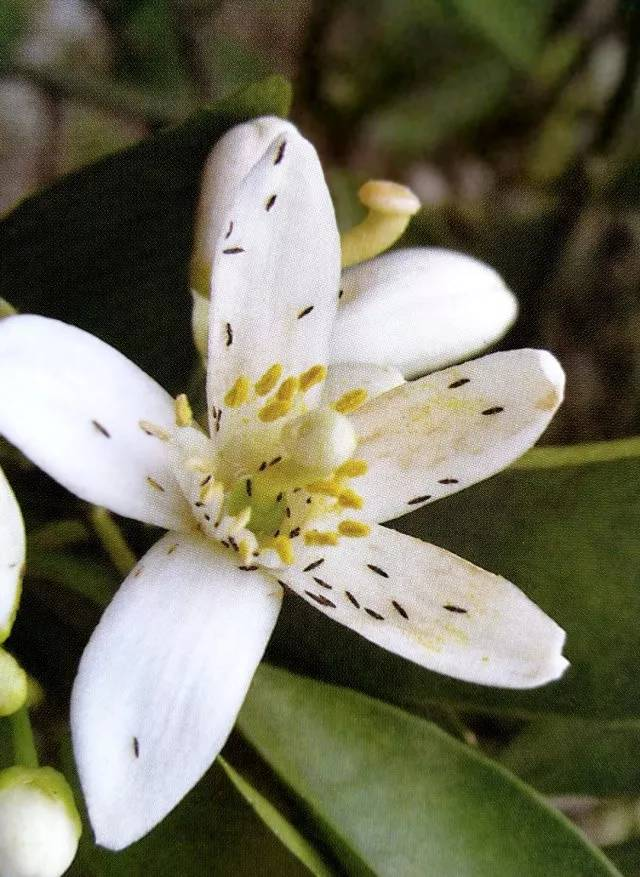thrips: (304, 591, 338, 609), (299, 554, 326, 574), (92, 417, 115, 440), (260, 452, 282, 472), (368, 561, 392, 579), (310, 575, 337, 591), (393, 598, 412, 620), (223, 530, 240, 554), (261, 192, 279, 214), (444, 602, 470, 617), (367, 605, 388, 622), (297, 305, 317, 322), (224, 323, 237, 349), (275, 141, 288, 167), (345, 589, 361, 610), (288, 522, 304, 543), (405, 494, 435, 505), (132, 734, 144, 759), (448, 377, 473, 389), (236, 561, 259, 573), (221, 245, 248, 255), (438, 473, 460, 485), (479, 406, 508, 414), (199, 473, 213, 487), (284, 505, 293, 523), (247, 475, 254, 497)
